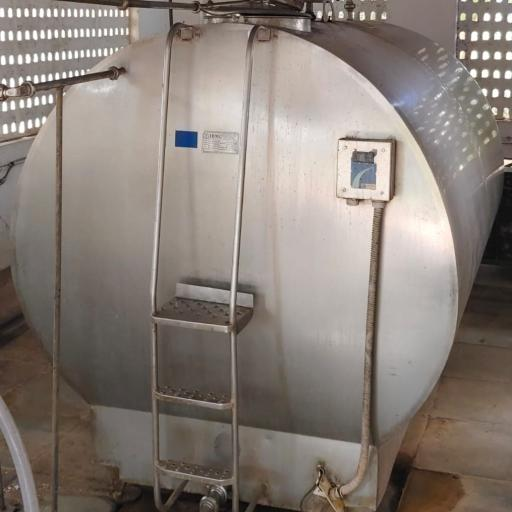silo: (12, 5, 508, 511)
